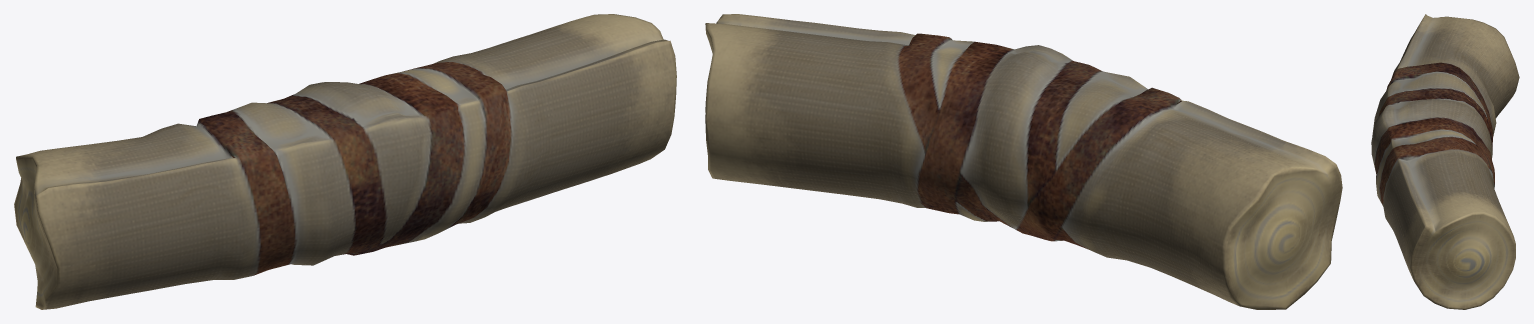
File: Cloth.FBX
3 renders of one model, left to right at view 1: azimuth 30°, elevation 25°; view 2: azimuth 150°, elevation 25°; view 3: azimuth 270°, elevation 25°, orthographic. The views are drawn at different scales.
Parts seen in each view (by area): view 1: Cloth; view 2: Cloth; view 3: Cloth.
Boxes of the visible parts, box(x1,y1,x2,y2) form: Cloth: box(14, 14, 676, 309); Cloth: box(705, 14, 1342, 309); Cloth: box(1371, 14, 1519, 309).
Size of the model in its own units: 95.27 by 27.97 by 23.59.
